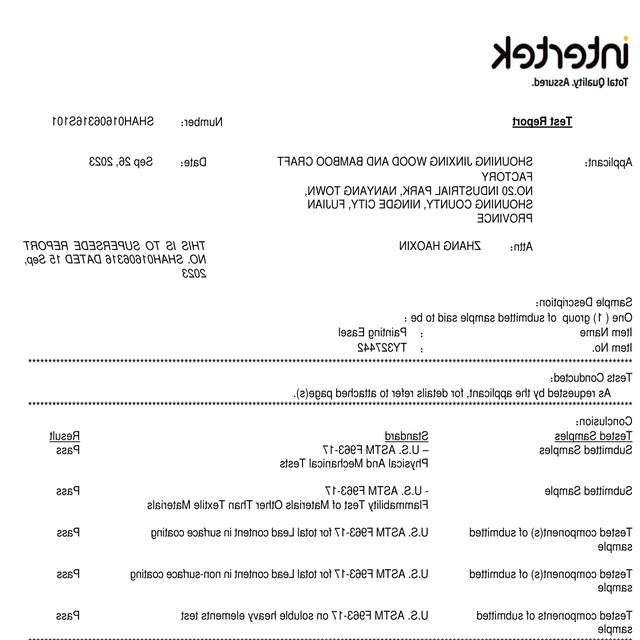intertek: (492, 33, 632, 74)
